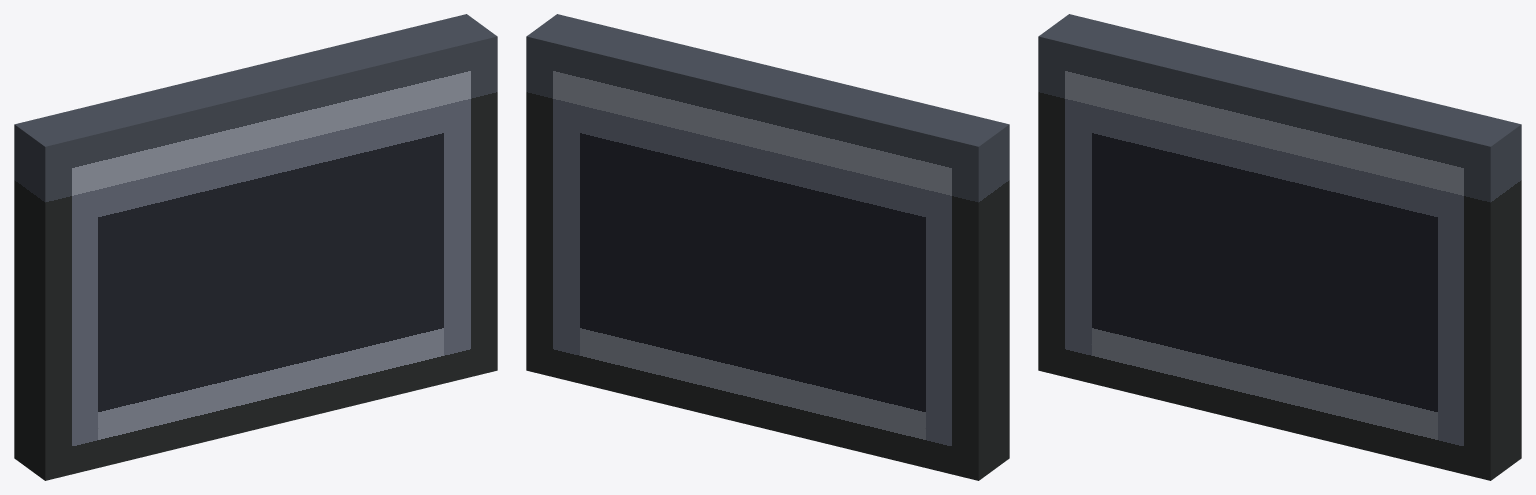
File: lift_indicator.glb
The picture shows the model from 3 angles, left to right: view 1: azimuth 30°, elevation 25°; view 2: azimuth 150°, elevation 25°; view 3: azimuth 330°, elevation 25°; orthographic projection.
Visible parts, largest first — view 1: Lift indicator; view 2: Lift indicator; view 3: Lift indicator.
Boxes of the visible parts, left/top/right/bottom form: Lift indicator: left=14, top=14, right=497, bottom=480; Lift indicator: left=526, top=14, right=1009, bottom=480; Lift indicator: left=1038, top=14, right=1521, bottom=480.
Size of the model in its own units: 1.06 by 0.75 by 0.125.
Materials: 1 (1 with a texture image).
